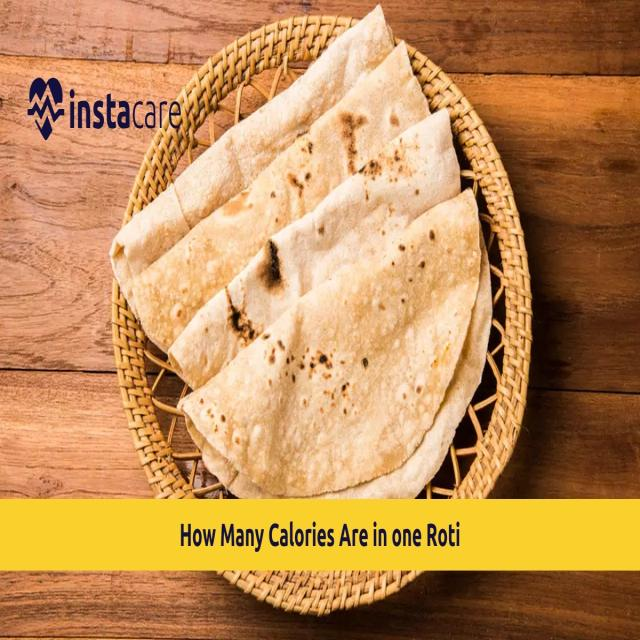ROTI: (176, 187, 481, 492)
